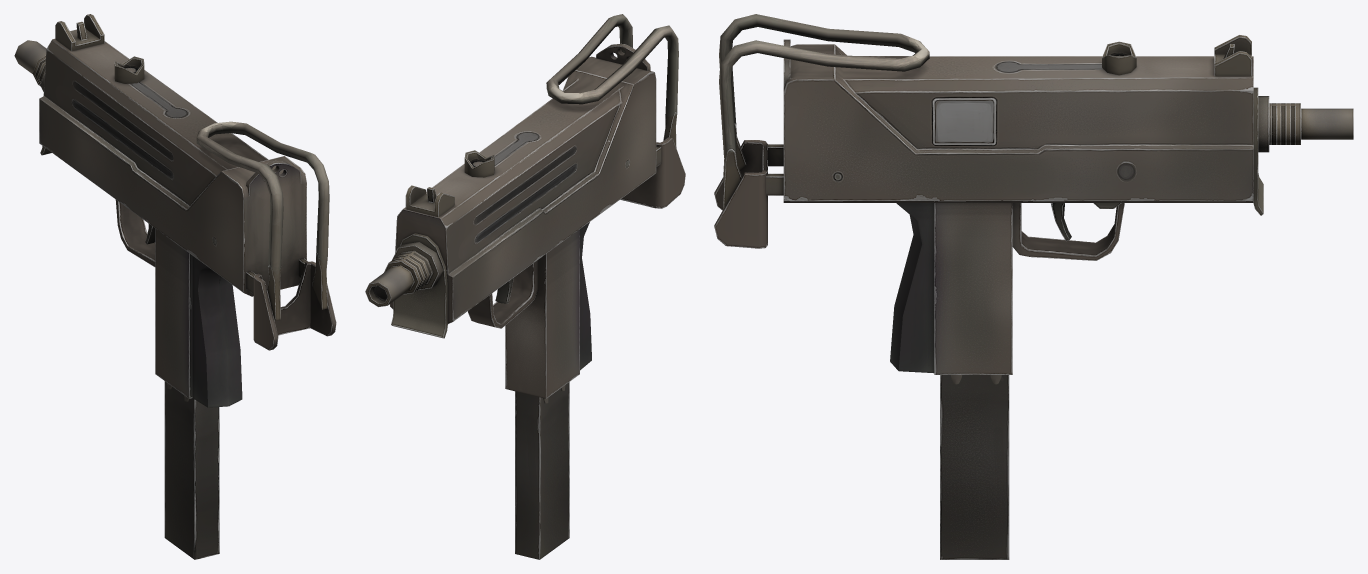
3 views of the same model, side by side, from view 1: azimuth 30°, elevation 25°; view 2: azimuth 150°, elevation 25°; view 3: azimuth 270°, elevation 25° (orthographic). The views are drawn at different scales.
Visible parts, largest first — view 1: Plane002; view 2: Plane002; view 3: Plane002.
Boxes of the visible parts, x1=… form: Plane002: x1=14, y1=14, x2=336, y2=559; Plane002: x1=365, y1=14, x2=685, y2=559; Plane002: x1=714, y1=14, x2=1353, y2=559.
Bounding box in the file's own units: 10.82 × 74.67 × 82.23.
1 material, 1 textured.
